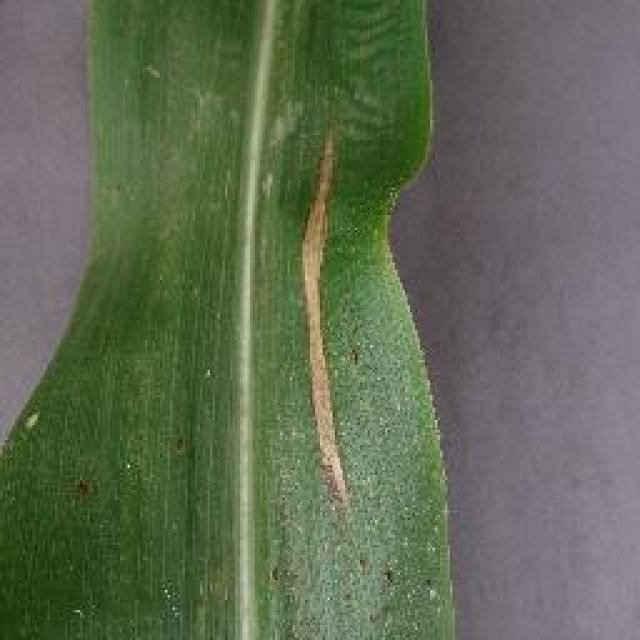Corn___Northern_Leaf_Blight: (0, 0, 485, 640)
